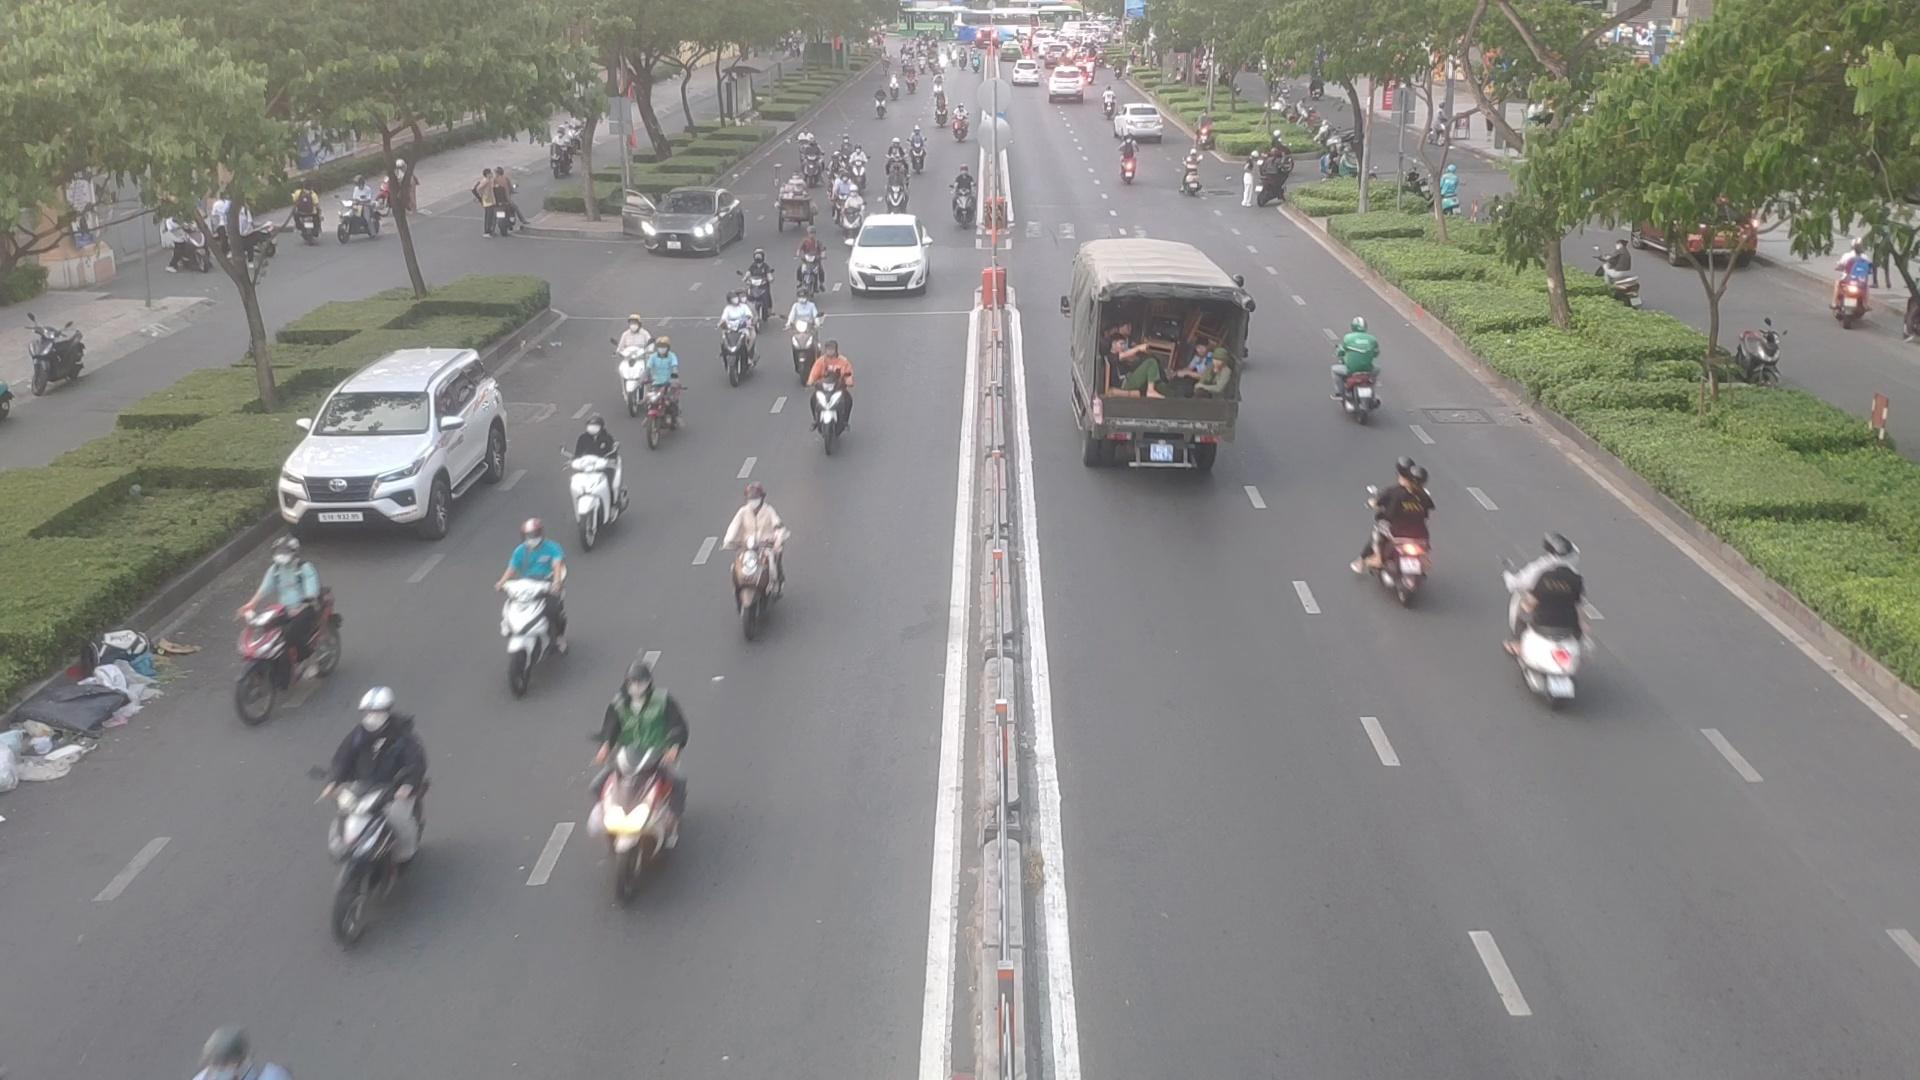car: (1058, 225, 1250, 492), (278, 345, 516, 535), (621, 189, 742, 256), (855, 215, 935, 297)
motorbike: (585, 686, 705, 920), (223, 543, 338, 727), (330, 694, 411, 938), (1506, 535, 1593, 713), (1358, 423, 1441, 608), (491, 533, 567, 682), (723, 483, 795, 640), (563, 406, 629, 560), (1331, 313, 1391, 435), (640, 342, 684, 433), (814, 348, 853, 440), (615, 324, 651, 415), (723, 291, 750, 380), (742, 248, 774, 319), (796, 229, 824, 299), (881, 164, 911, 225), (786, 291, 810, 368), (1182, 152, 1211, 211), (1108, 135, 1138, 187), (884, 137, 914, 179), (843, 185, 864, 243), (953, 162, 973, 220), (833, 175, 857, 222), (804, 140, 819, 187), (913, 128, 927, 173), (855, 144, 866, 189)
